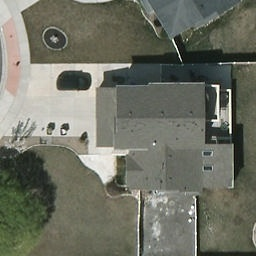car: (57, 76, 91, 90)
